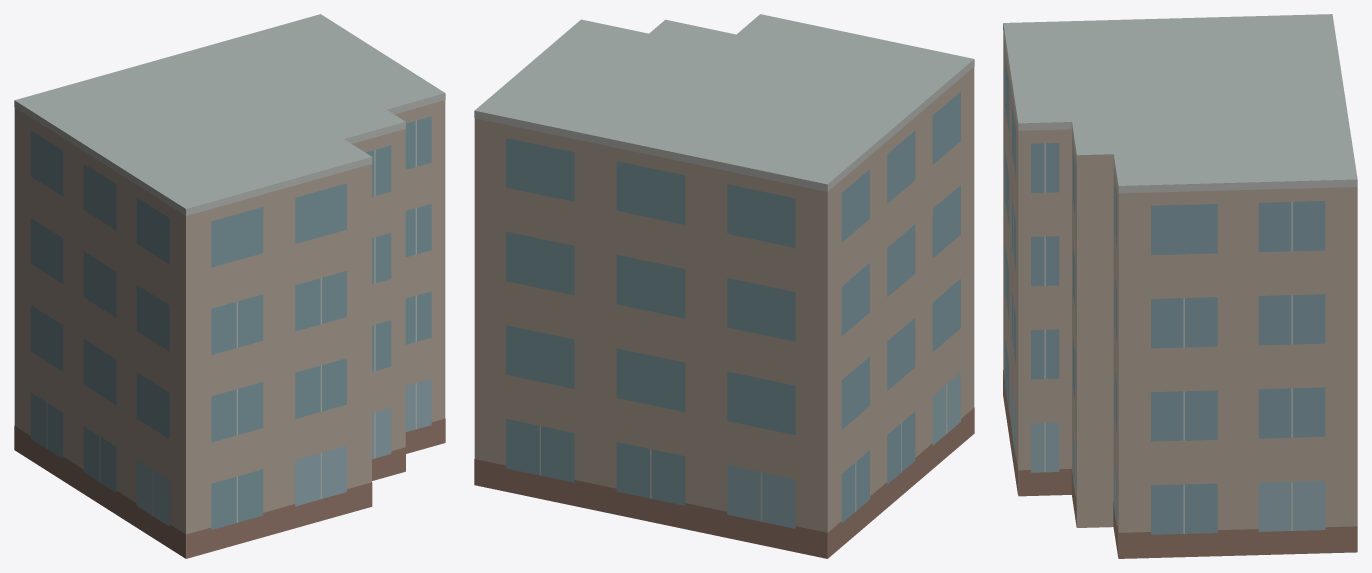
The model's file is residential-ab7906a3-d80d-45fa-a4b3-c2bdddfc0edf.glb.
3 views of the same model, side by side, from view 1: azimuth 30°, elevation 25°; view 2: azimuth 150°, elevation 25°; view 3: azimuth 270°, elevation 25° (orthographic). The views are drawn at different scales.
Visible parts, largest first — view 1: residential-ab7906a3-d80d-45fa-a4b3-c2bdddfc0edf.tmp; view 2: residential-ab7906a3-d80d-45fa-a4b3-c2bdddfc0edf.tmp; view 3: residential-ab7906a3-d80d-45fa-a4b3-c2bdddfc0edf.tmp.
Boxes of the visible parts, bbox=[...] form: residential-ab7906a3-d80d-45fa-a4b3-c2bdddfc0edf.tmp: bbox=[14, 14, 445, 558]; residential-ab7906a3-d80d-45fa-a4b3-c2bdddfc0edf.tmp: bbox=[474, 14, 974, 558]; residential-ab7906a3-d80d-45fa-a4b3-c2bdddfc0edf.tmp: bbox=[1003, 14, 1357, 558].
Bounding box in the file's own units: 12.08 × 12.2 × 10.52.
